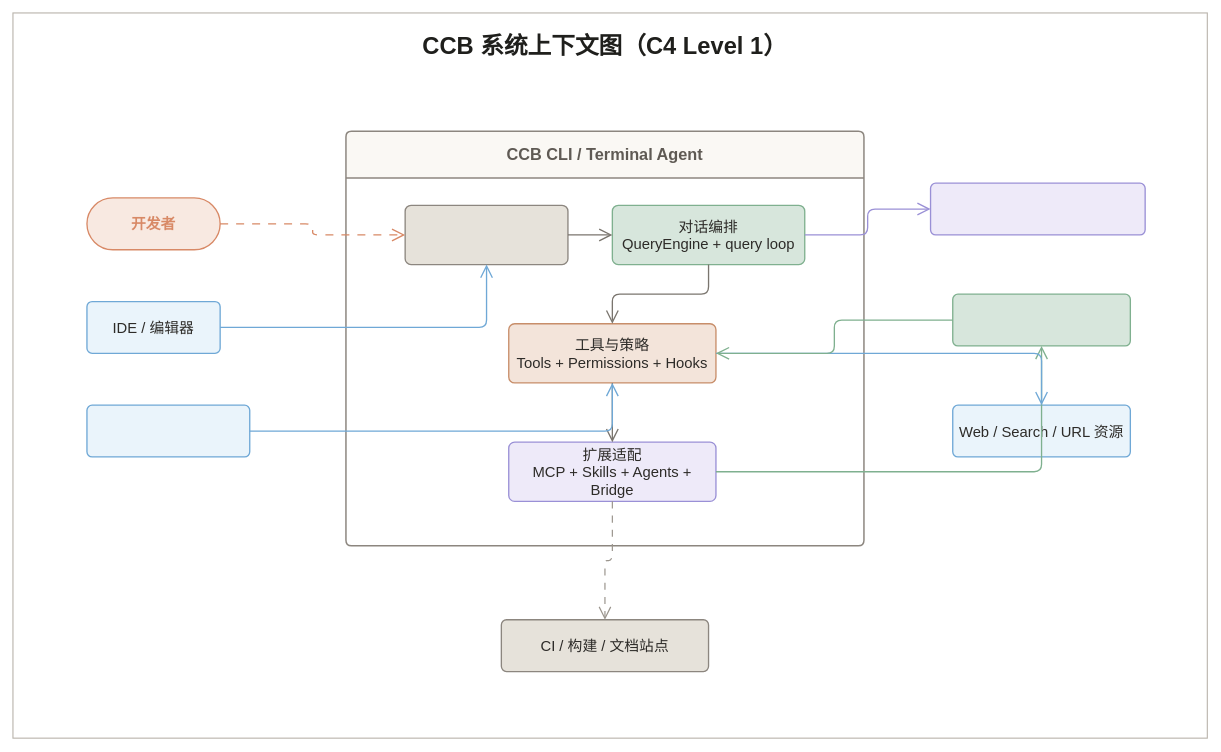
Image size: 1221x752. Some labels were removed from this diagram. Each missing label, with the centre of its shape:
Claude / Bedrock / Vertex / Foundry: the point at 1037,208
Git 仓库与本地文件: the point at 168,430
MCP Servers / 外部工具: the point at 1041,319
交互前端 CLI 命令 + REPL UI: the point at 486,234
